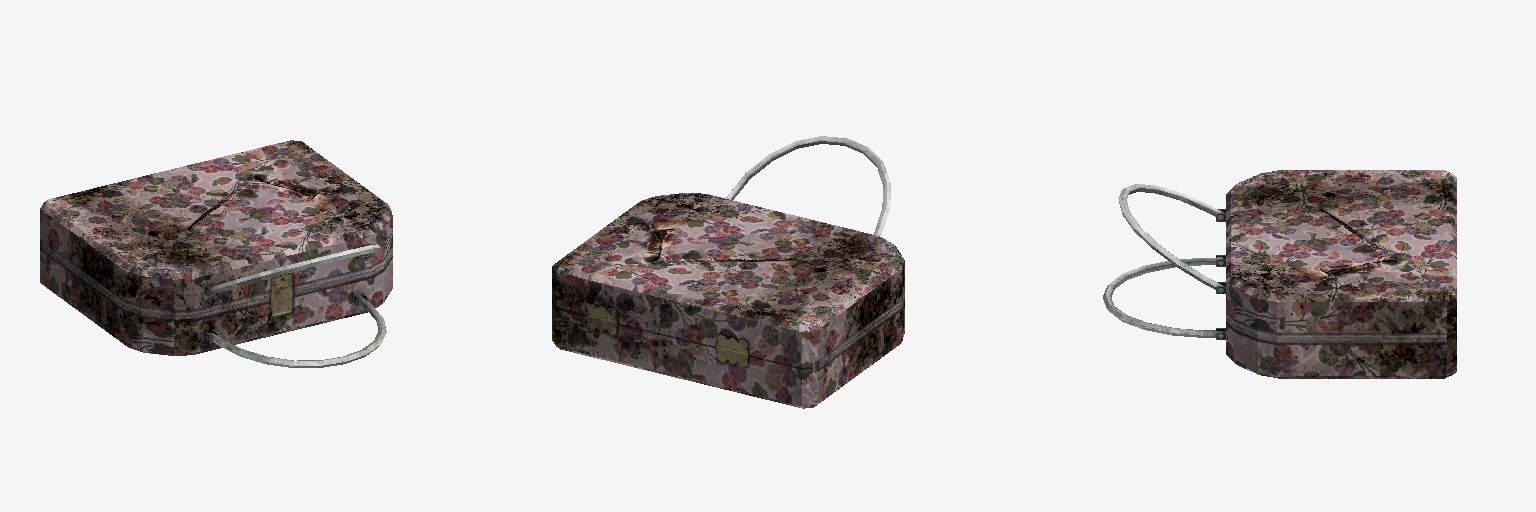
3 renders of one model, left to right at view 1: azimuth 30°, elevation 25°; view 2: azimuth 150°, elevation 25°; view 3: azimuth 270°, elevation 25°, orthographic.
Visible parts, largest first — view 1: debris_luggageB; view 2: debris_luggageB; view 3: debris_luggageB.
Part boxes in pixels (x1,y1,x2,y2): debris_luggageB: (40,140,392,367); debris_luggageB: (552,136,904,408); debris_luggageB: (1103,170,1456,378).
Size of the model in its own units: 110 by 47.47 by 127.
1 materials, 1 textured.